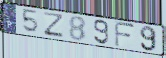5: (21, 8, 40, 34)
8: (68, 15, 88, 43)
9: (139, 25, 158, 52), (93, 19, 109, 45)
F: (114, 20, 137, 49)
Z: (43, 11, 65, 38)
